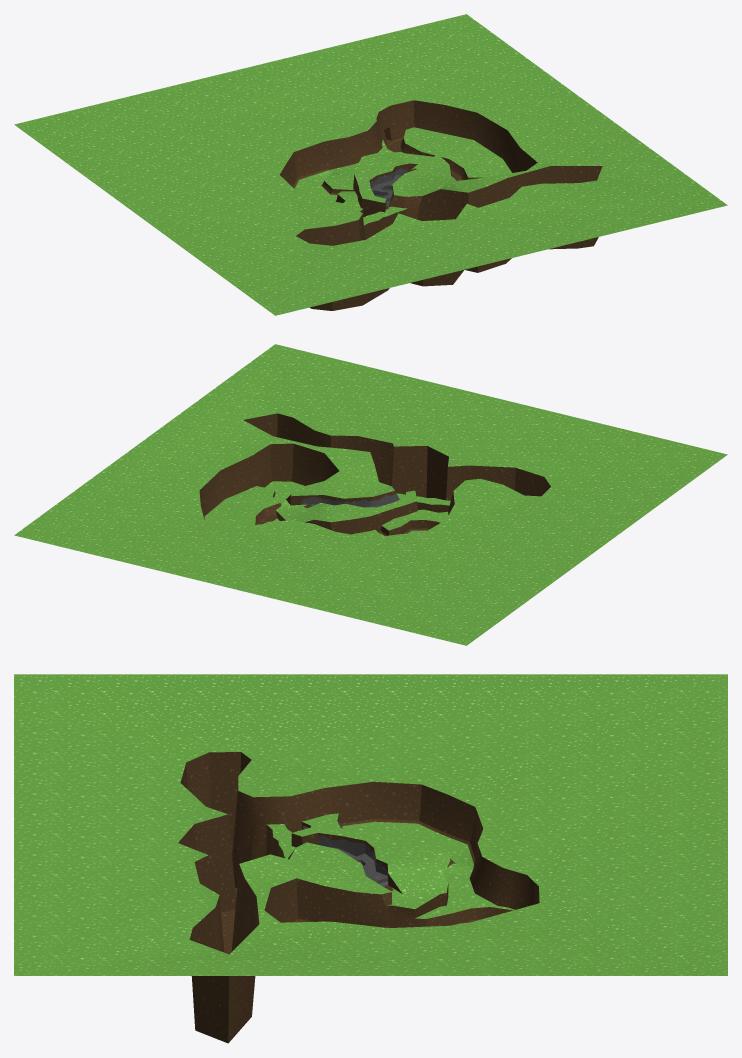
Rendered from Castle_Hill_Terrain.fbx.
3 views of the same model, one above another, from view 1: azimuth 30°, elevation 25°; view 2: azimuth 150°, elevation 25°; view 3: azimuth 270°, elevation 25° (orthographic). The views are drawn at different scales.
Parts seen in each view (by area): view 1: Castle_Hill_Terrain; view 2: Castle_Hill_Terrain; view 3: Castle_Hill_Terrain.
Boxes of the visible parts, <box> form: Castle_Hill_Terrain: <box>14,14,727,315</box>; Castle_Hill_Terrain: <box>14,344,727,645</box>; Castle_Hill_Terrain: <box>14,674,727,1043</box>.
Size of the model in its own units: 500 by 78.53 by 500.
Materials: 3 (3 with a texture image).
